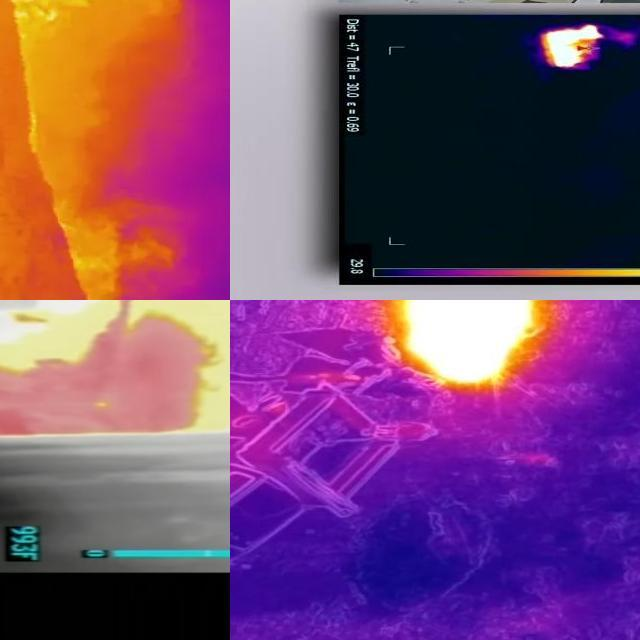fire: (9, 1, 231, 301), (1, 306, 231, 436), (386, 301, 547, 390), (542, 24, 605, 70)
